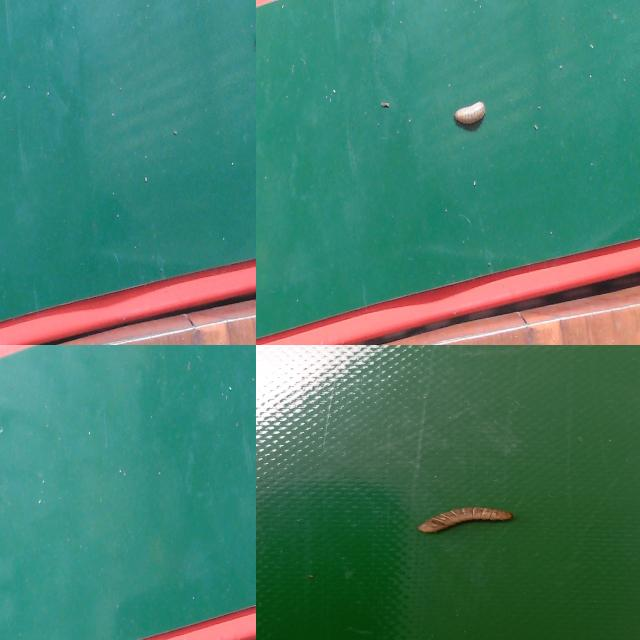Maggot: (418, 506, 514, 536), (452, 101, 488, 133)
